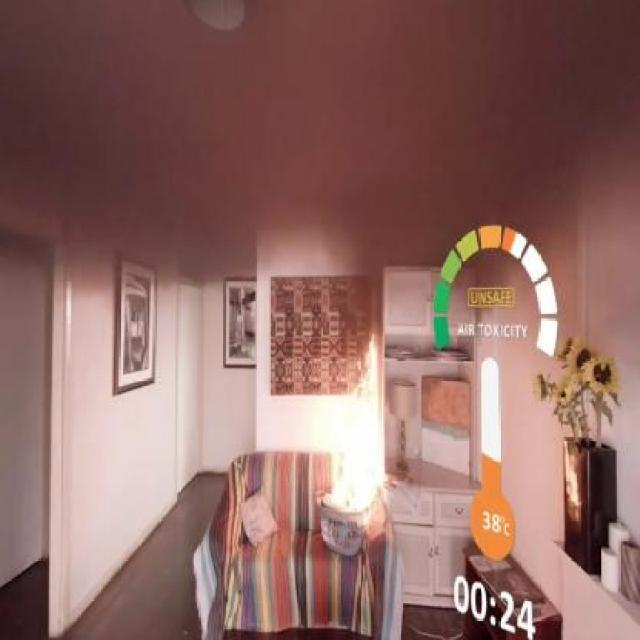fire: (302, 324, 408, 567)
